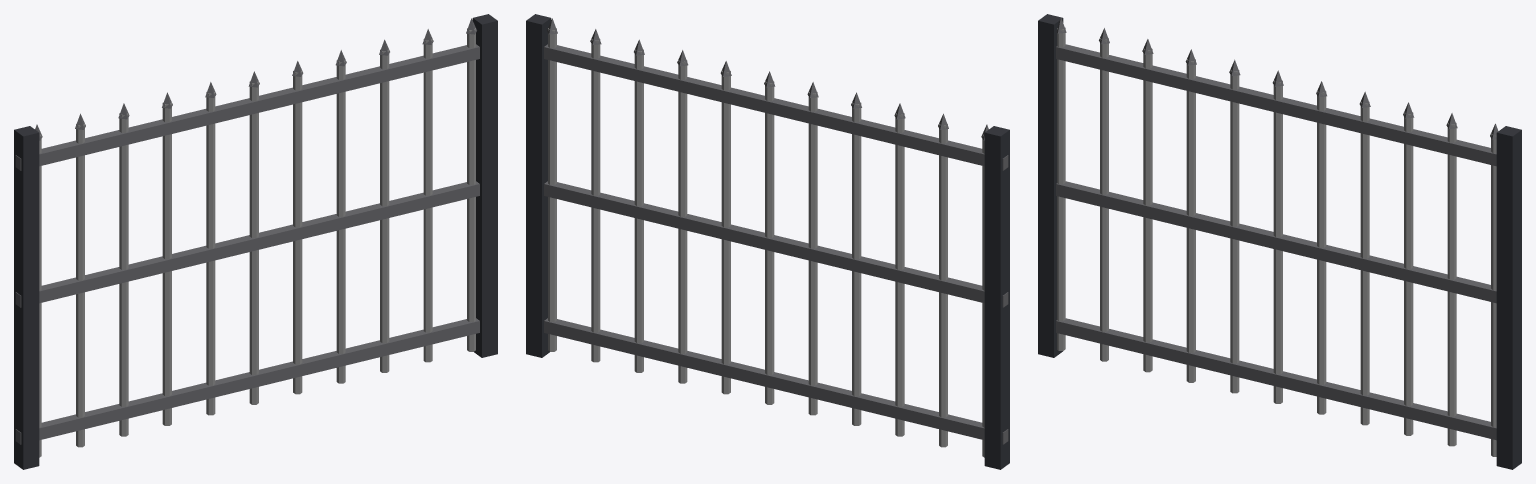
The model's file is gate_panel.fbx.
3 renders of one model, left to right at view 1: azimuth 30°, elevation 25°; view 2: azimuth 150°, elevation 25°; view 3: azimuth 330°, elevation 25°, orthographic.
Visible parts, largest first — view 1: Gate; view 2: Gate; view 3: Gate.
Part boxes in pixels (left/top/right/bottom): Gate: left=14, top=14, right=497, bottom=469; Gate: left=526, top=14, right=1009, bottom=469; Gate: left=1038, top=14, right=1521, bottom=469.
Size of the model in its own units: 4.18 by 2.84 by 0.14.
Materials: 1 (1 with a texture image).
